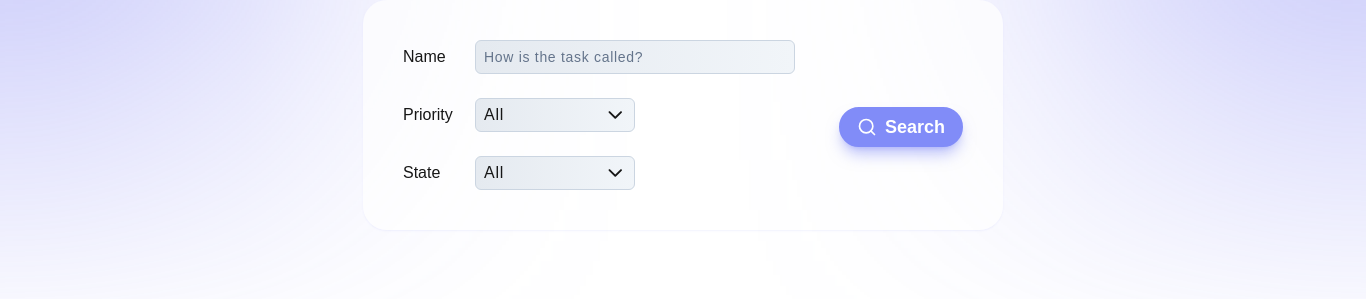
Test: Search Component › should update local search params on dropdown change
This screenshot has width=1366, height=299.
Click the button named "Priority". click: (545, 115)
box: [484,103,606,127]
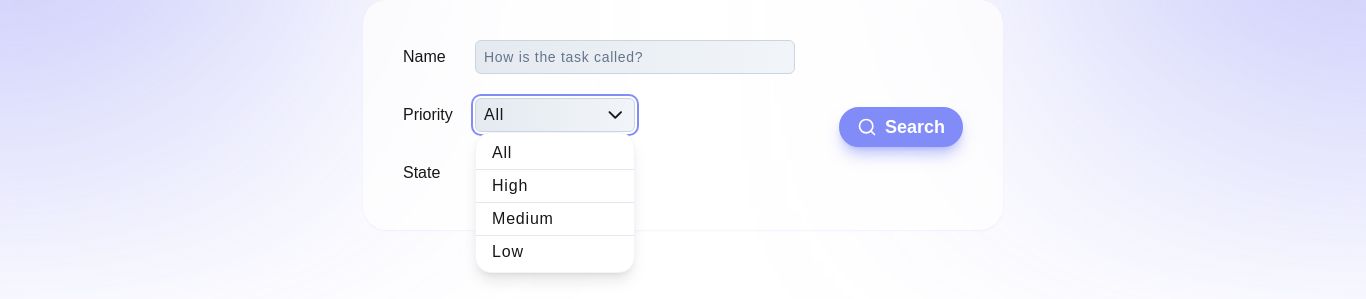
Click the option "High". click: (555, 186)
box: [476,169,634,202]
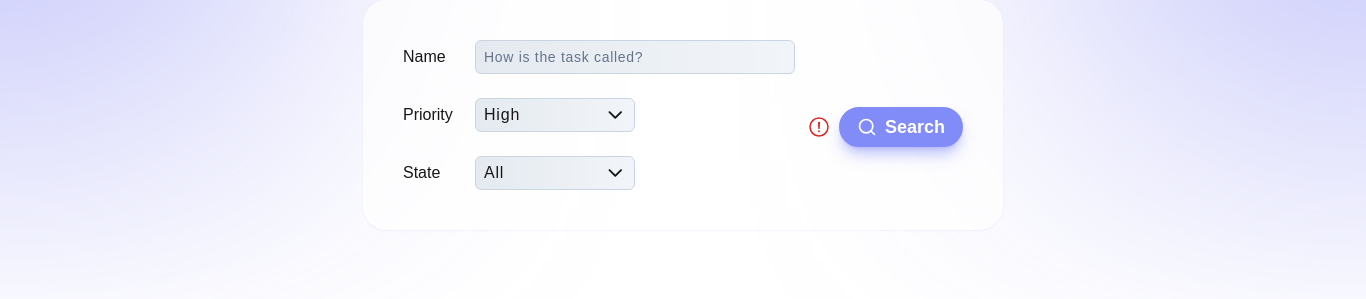
Now the button named "Priority" reads "High", box [484,103,606,127]
